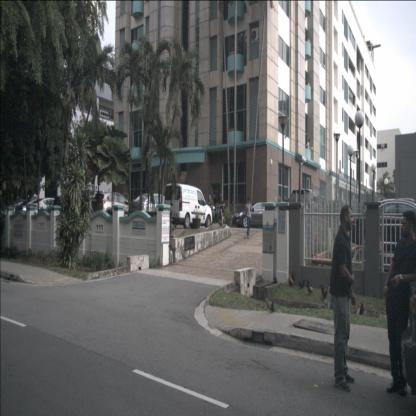human-pedestrian-adult: (383, 210, 416, 397), (329, 205, 356, 392), (245, 196, 252, 239)
vehicle-car: (349, 198, 415, 254), (164, 183, 212, 229), (288, 189, 326, 228), (126, 192, 174, 221), (235, 202, 284, 229), (91, 191, 133, 219), (31, 198, 74, 224), (16, 198, 60, 223)
vehicle-motorcycle: (214, 201, 226, 227)
